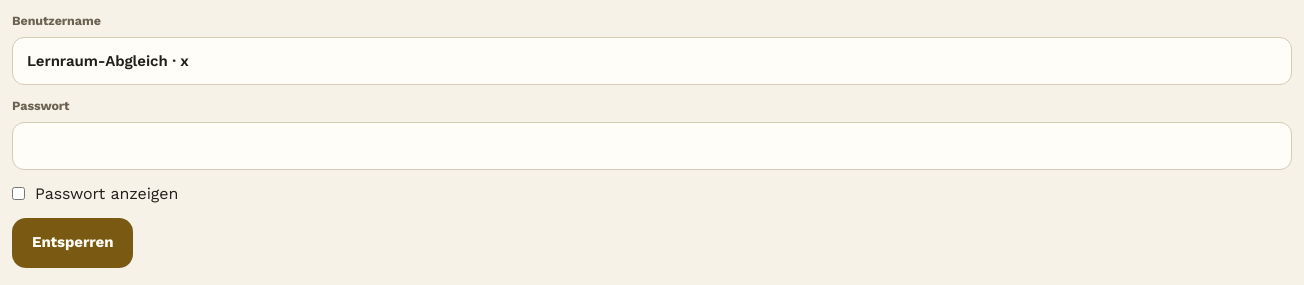
it: SyncPasswordForm for password managers › allows pasting and shows the password on request
Click the password field labelled "Passwort".
click(652, 146)  # box [12, 122, 1292, 170]
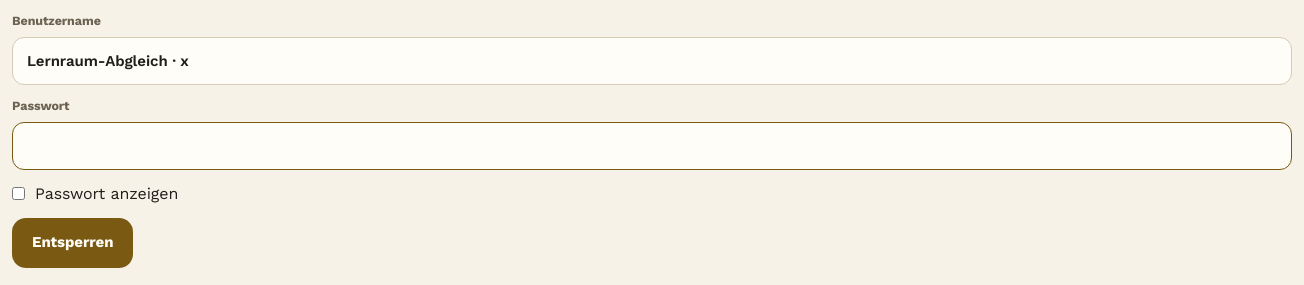
Type keys "pferd-batterie-klammer"
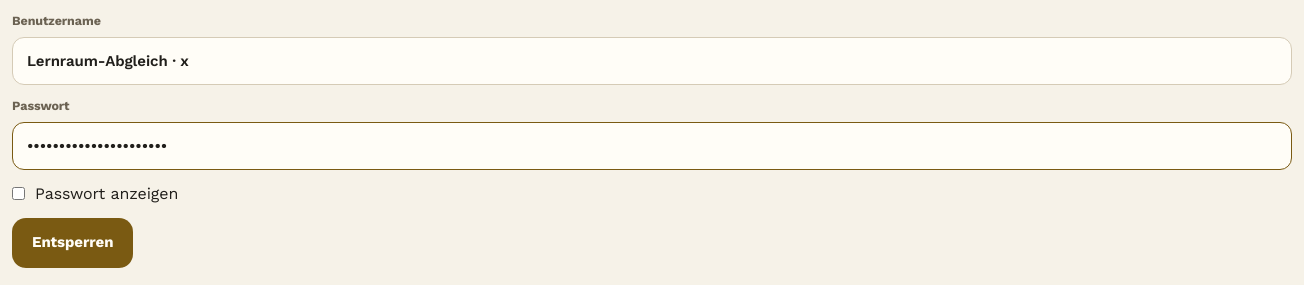
expect the password field labelled "Passwort" holds "pferd-batterie-klammer": met, box [12, 122, 1292, 170]
Click the checkbox labelled "Passwort anzeigen".
click(18, 194)  # box [12, 187, 25, 200]
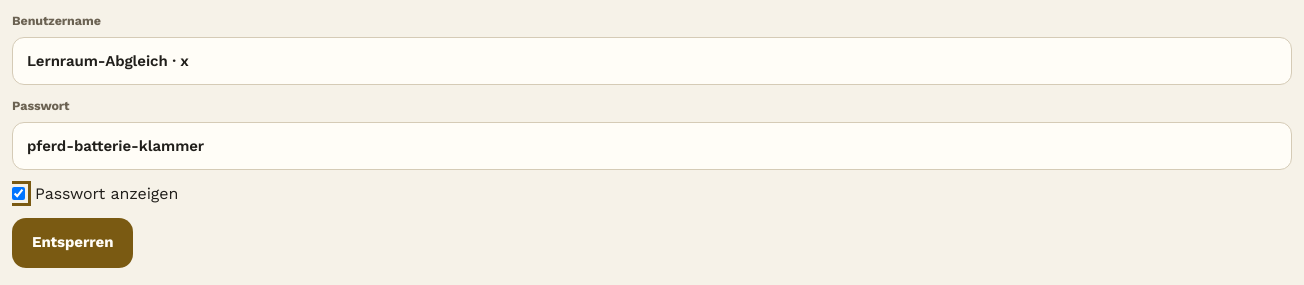
expect the field labelled "Passwort" shows its text: met, box [12, 122, 1292, 170]
